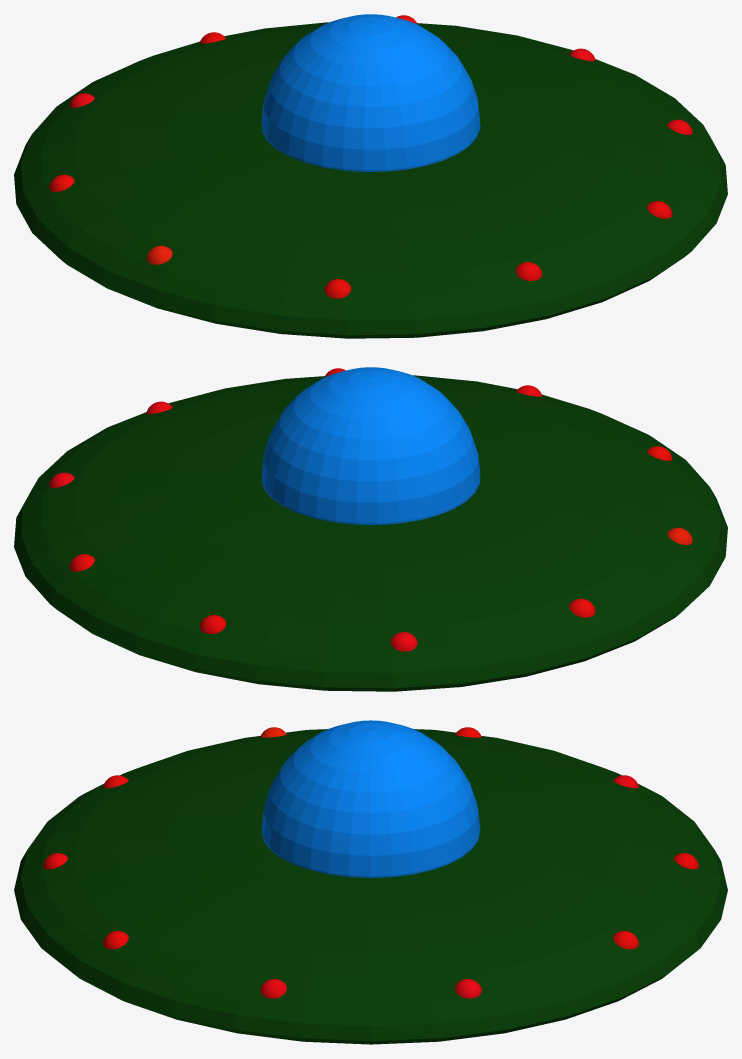
The model's file is ufo final.fbx.
3 renders of one model, top to bottom at view 1: azimuth 30°, elevation 25°; view 2: azimuth 150°, elevation 25°; view 3: azimuth 270°, elevation 25°, orthographic.
Parts seen in each view (by area): view 1: Esfera UV, Esfera UV.001; view 2: Esfera UV, Esfera UV.001; view 3: Esfera UV, Esfera UV.001.
Boxes of the visible parts, left/top/right/bottom form: Esfera UV: left=14, top=22, right=727, bottom=338; Esfera UV.001: left=261, top=14, right=480, bottom=171; Esfera UV: left=14, top=375, right=727, bottom=691; Esfera UV.001: left=261, top=367, right=480, bottom=524; Esfera UV: left=14, top=729, right=727, bottom=1044; Esfera UV.001: left=261, top=720, right=480, bottom=877.
Size of the model in its own units: 772 by 198 by 772.
